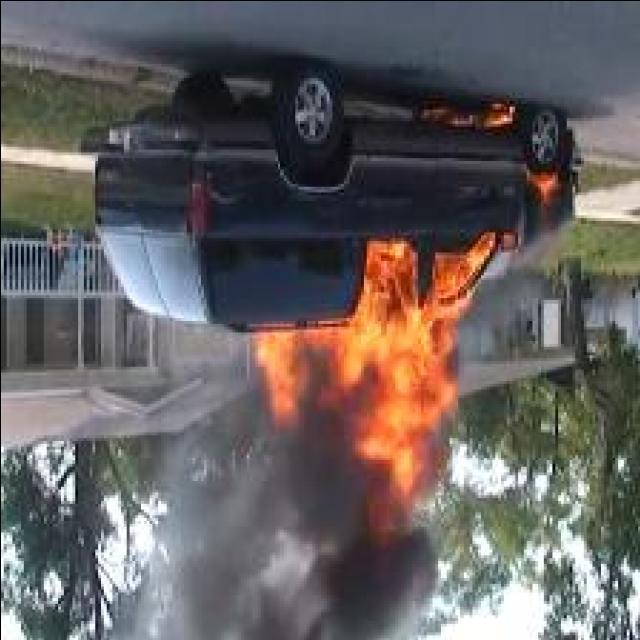Fire: (254, 237, 497, 500), (529, 170, 557, 207)
